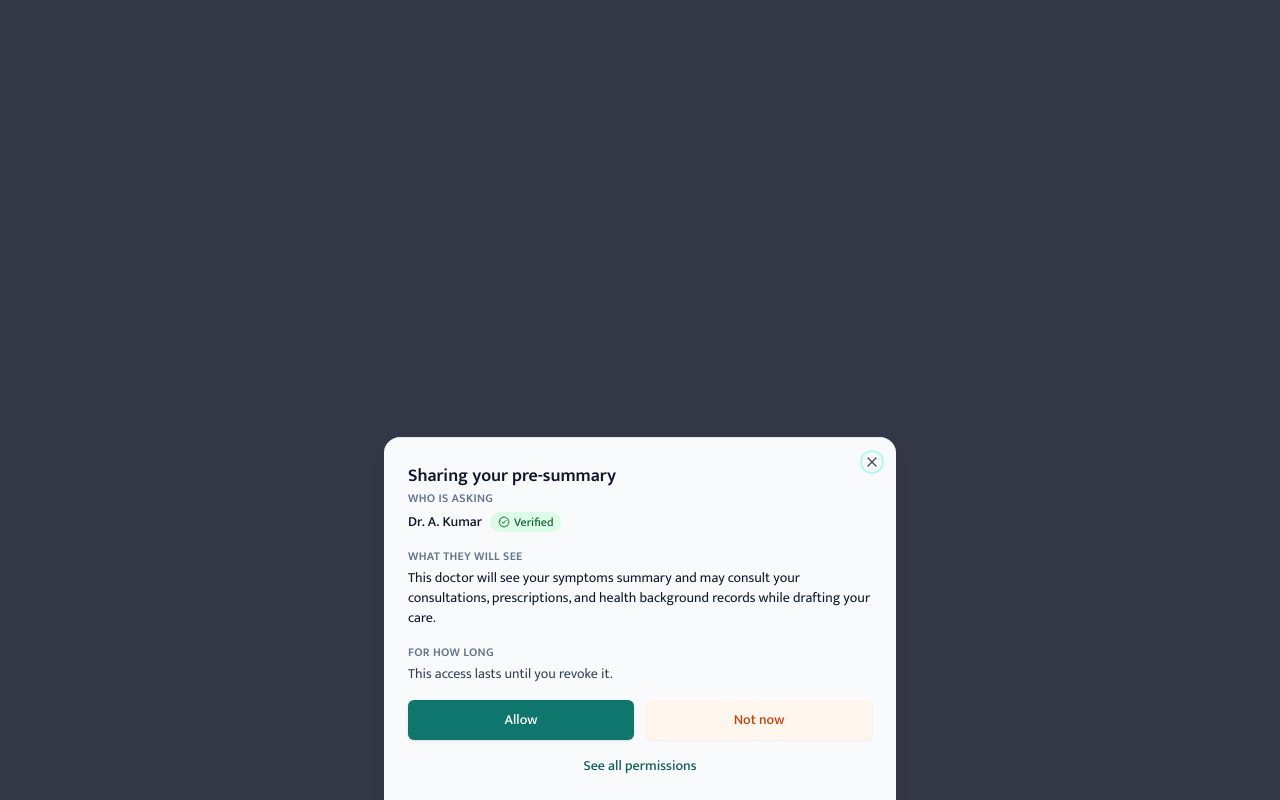
Test: PickConsentSheet › keeps the patient in the sheet with the error on a failed Allow
Click the button with test id "pick-consent-allow". click: (521, 720)
box: top-left (408, 700), bottom-right (634, 740)
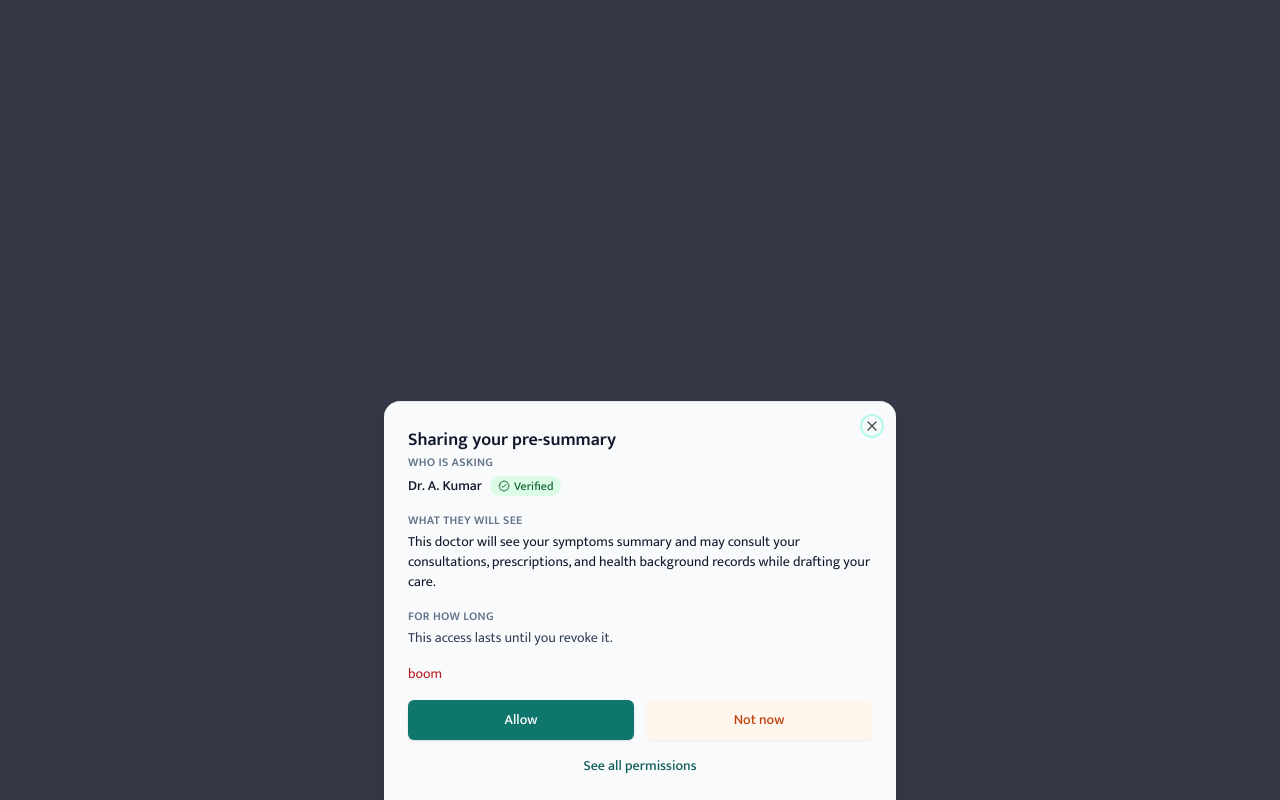
Check: the message reads "boom", box top-left (408, 662), bottom-right (442, 685)
